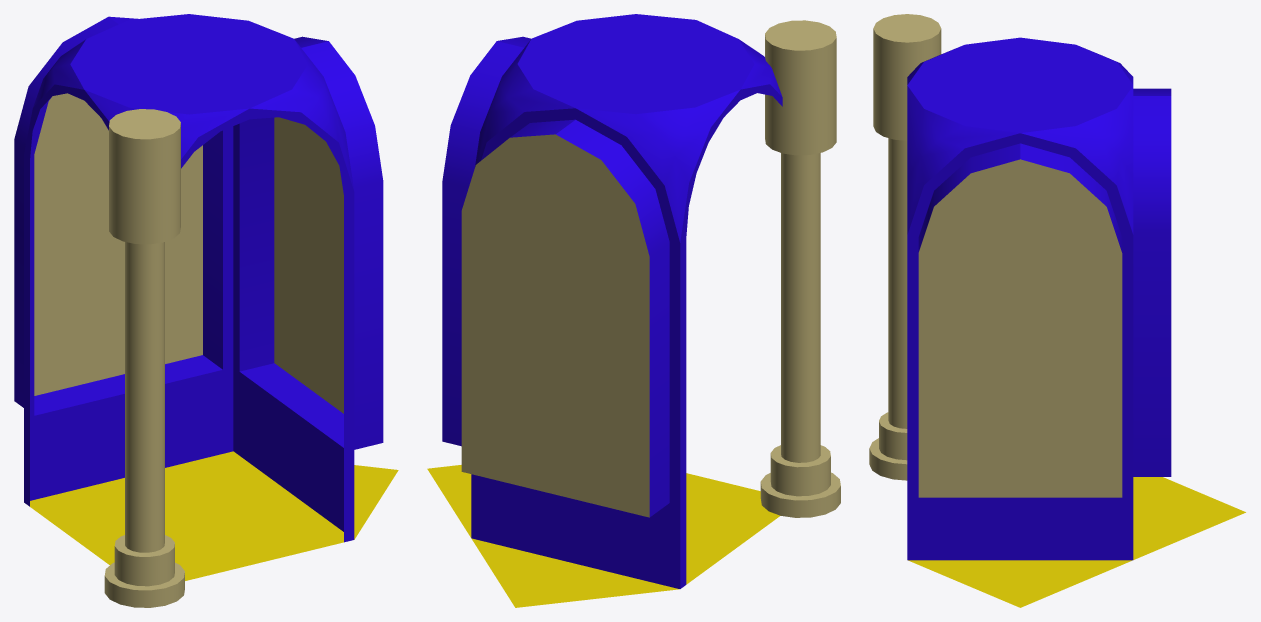
The model's file is LeftTurnV1.fbx.
The picture shows the model from 3 angles, left to right: view 1: azimuth 30°, elevation 25°; view 2: azimuth 150°, elevation 25°; view 3: azimuth 270°, elevation 25°; orthographic projection. The views are drawn at different scales.
Parts seen in each view (by area): view 1: LeftTurnV1; view 2: LeftTurnV1; view 3: LeftTurnV1.
Part boxes in pixels (x1,y1,x2,y2): LeftTurnV1: [14, 14, 398, 607]; LeftTurnV1: [427, 14, 840, 607]; LeftTurnV1: [869, 14, 1245, 607].
Bounding box in the file's own units: 200 × 255 × 200.
